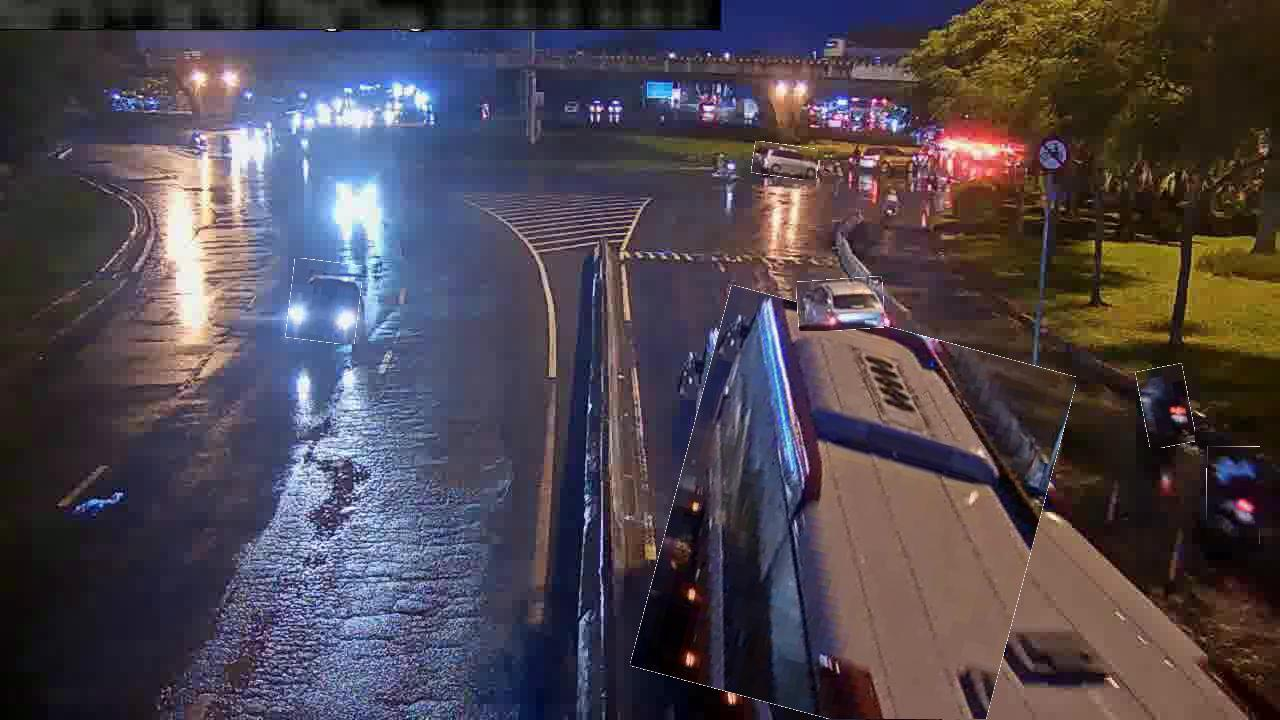14: (652, 305, 1056, 719)
container: (288, 260, 361, 344), (797, 278, 885, 331), (752, 143, 819, 179)
motorbike: (1207, 446, 1261, 545), (1139, 365, 1193, 448)
